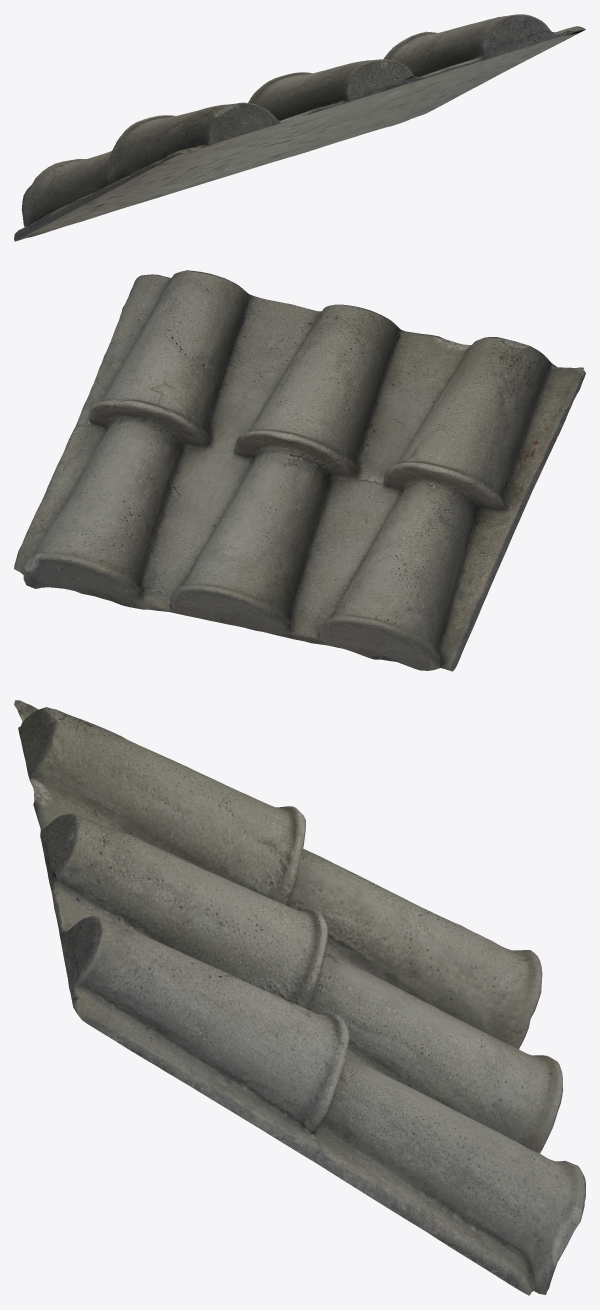
Rendered from Retopo_3DModel_mesh.055.glb.
The picture shows the model from 3 angles, top to bottom: view 1: azimuth 30°, elevation 25°; view 2: azimuth 150°, elevation 25°; view 3: azimuth 270°, elevation 25°; orthographic projection. The views are drawn at different scales.
Visible parts, largest first — view 1: Retopo_3DModel_mesh.055; view 2: Retopo_3DModel_mesh.055; view 3: Retopo_3DModel_mesh.055.
Boxes of the visible parts, box(x1,y1,x2,y2) form: Retopo_3DModel_mesh.055: box(14, 14, 585, 241); Retopo_3DModel_mesh.055: box(14, 270, 585, 671); Retopo_3DModel_mesh.055: box(14, 700, 585, 1295).
Bounding box in the file's own units: 5 × 2.42 × 3.57.
Materials: 1 (1 with a texture image).
